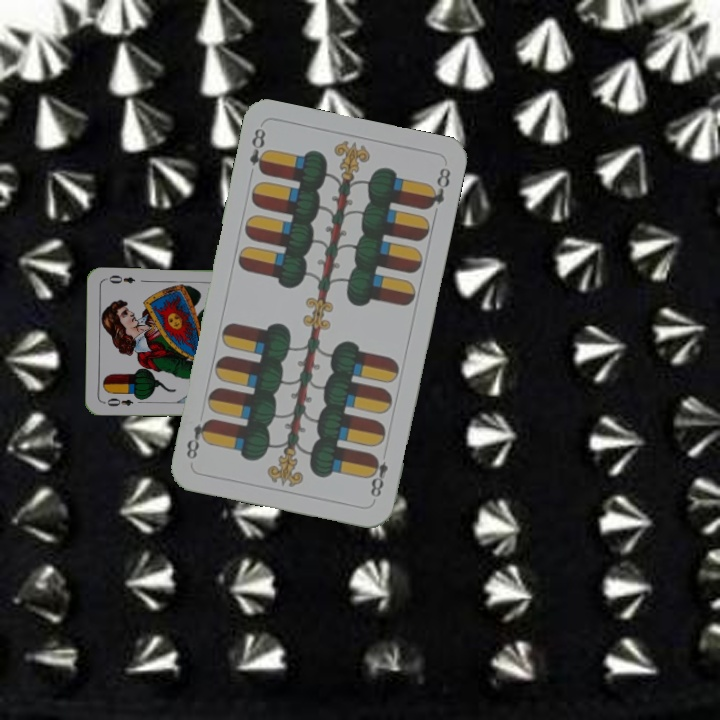E8: (245, 124, 271, 177), (365, 451, 391, 500)
EO: (100, 394, 136, 409)
